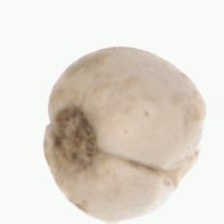L4: (42, 46, 207, 222)
